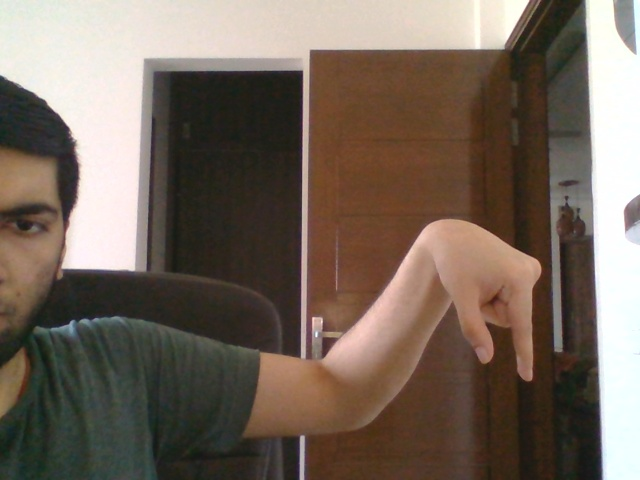LetterQ: (422, 215, 543, 383)
